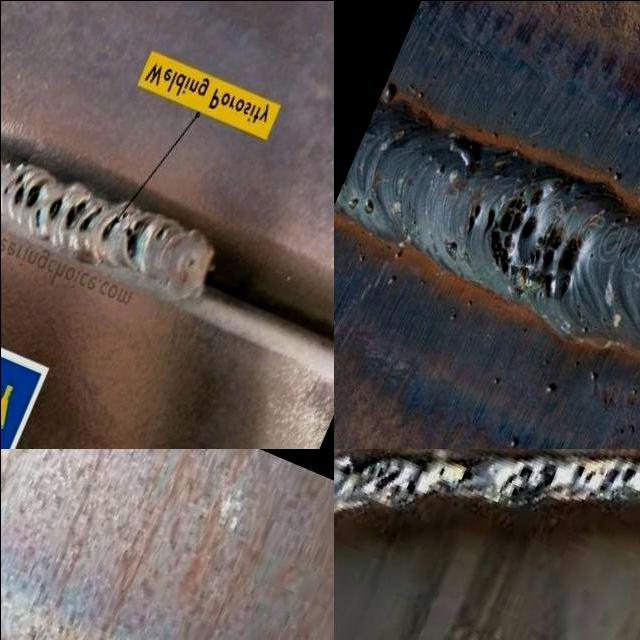defect: (483, 187, 550, 274), (527, 226, 585, 302), (500, 456, 560, 508), (357, 459, 422, 501), (571, 455, 639, 490), (10, 171, 50, 230), (123, 216, 149, 262), (98, 209, 132, 244), (65, 198, 87, 229), (333, 455, 355, 485), (451, 465, 477, 489), (79, 206, 102, 232), (465, 203, 481, 236), (47, 195, 63, 222), (153, 224, 169, 242), (437, 464, 448, 478), (4, 185, 9, 194)
